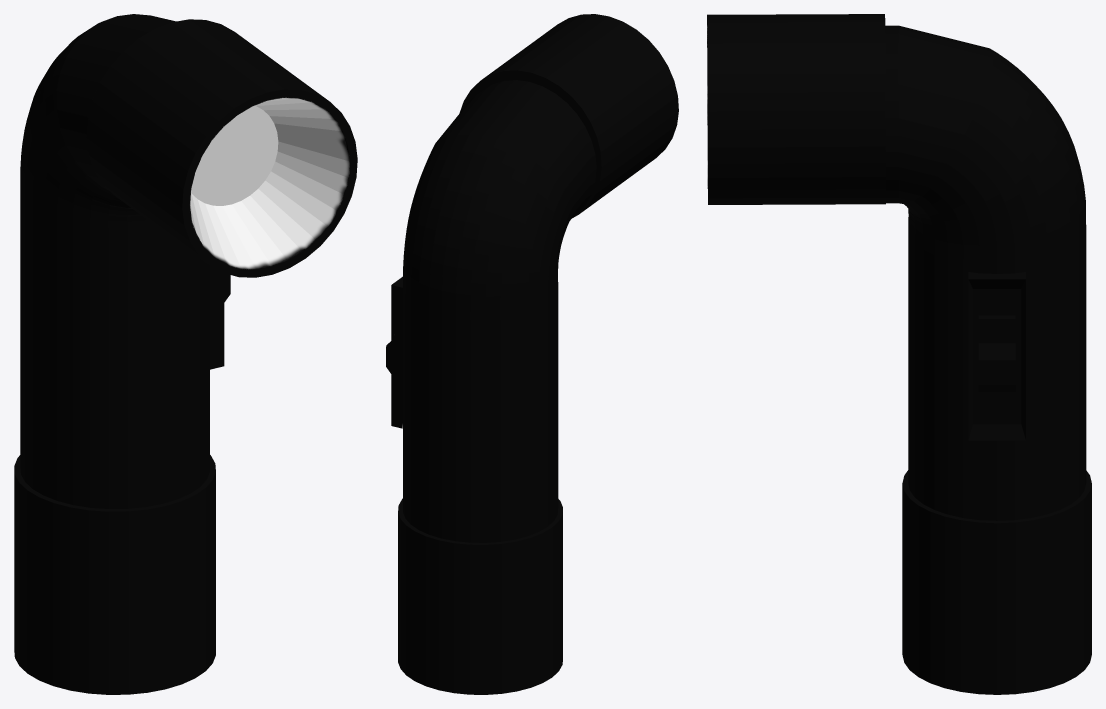
Rendered from flashlight.glb.
The picture shows the model from 3 angles, left to right: view 1: azimuth 30°, elevation 25°; view 2: azimuth 150°, elevation 25°; view 3: azimuth 270°, elevation 25°; orthographic projection. The views are drawn at different scales.
Visible parts, largest first — view 1: Cylinder; view 2: Cylinder; view 3: Cylinder.
Part boxes in pixels (box(x1,y1,x2,y2)): Cylinder: box(14, 14, 357, 694); Cylinder: box(386, 14, 678, 694); Cylinder: box(707, 14, 1091, 694).
Size of what is drawn, in the model's own units: 0.2505 by 0.833 by 0.4598.
2 materials, 2 textured.
